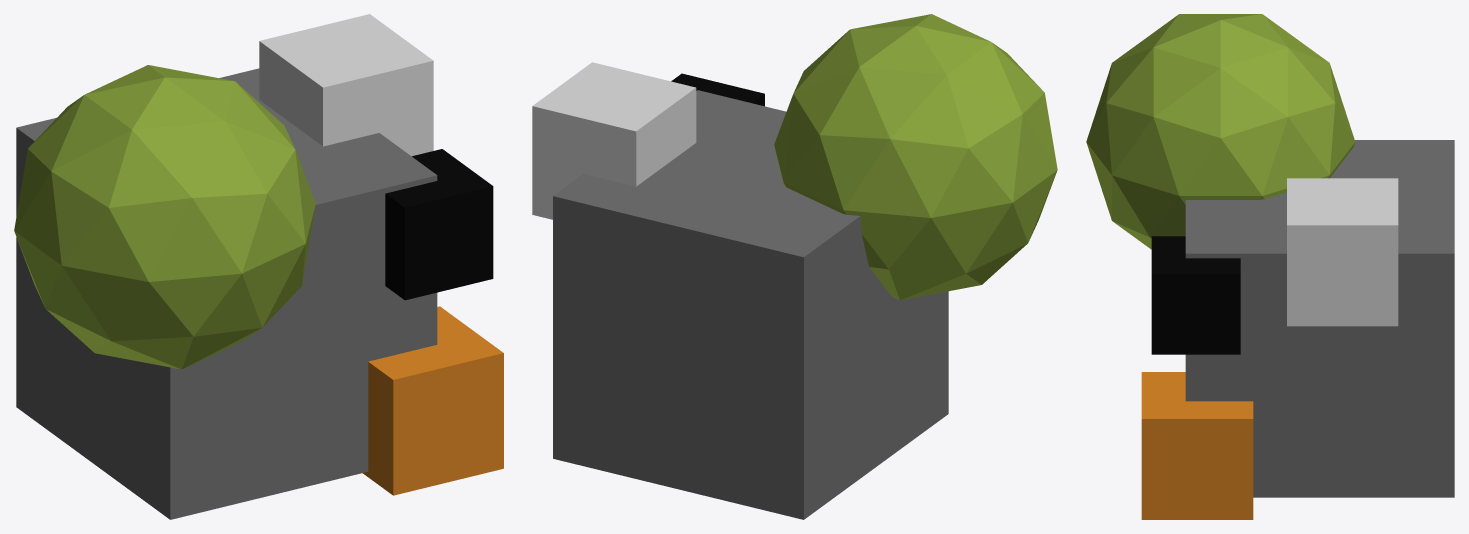
Rendered from cubes.gltf.
3 views of the same model, side by side, from view 1: azimuth 30°, elevation 25°; view 2: azimuth 150°, elevation 25°; view 3: azimuth 270°, elevation 25° (orthographic). The views are drawn at different scales.
Visible parts, largest first — view 1: Cube; view 2: Cube; view 3: Cube.
Boxes of the visible parts, bbox=[...] form: Cube: bbox=[14, 14, 503, 519]; Cube: bbox=[532, 14, 1057, 519]; Cube: bbox=[1086, 14, 1454, 519].
Size of the model in its own units: 3.25 by 3.07 by 2.74.
